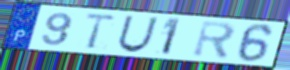1: (161, 17, 183, 58)
6: (237, 23, 275, 63)
9: (40, 12, 74, 46)
R: (191, 20, 238, 62)
T: (83, 12, 119, 51)
U: (116, 14, 160, 54)
